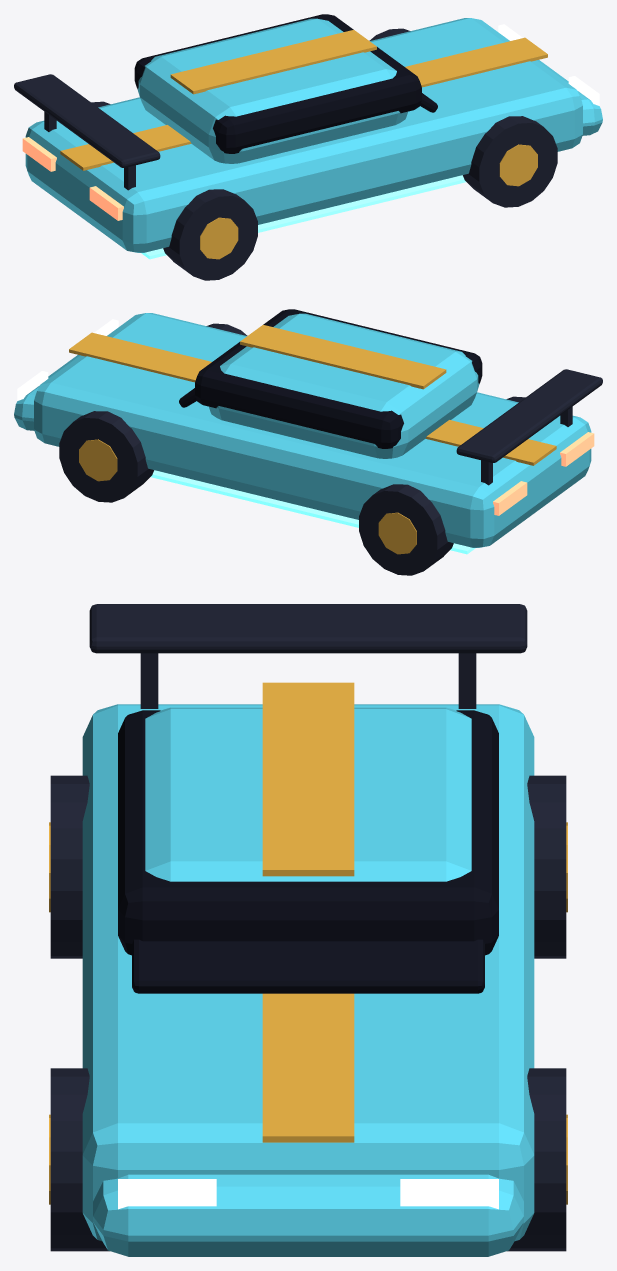
The model's file is cyan_coupe.glb.
3 views of the same model, one above another, from view 1: azimuth 30°, elevation 25°; view 2: azimuth 150°, elevation 25°; view 3: azimuth 270°, elevation 25° (orthographic). The views are drawn at different scales.
Parts seen in each view (by area): view 1: lower, cabin, glass, wheel-11, wheel-1-1, spoiler, stripe, stripeRoof, underglow, rim-11, rim-1-1, nose (+3 smaller); view 2: lower, cabin, glass, wheel11, wheel1-1, spoiler, stripe, stripeRoof, underglow, rim11, rim1-1, nose (+3 smaller); view 3: lower, cabin, glass, nose, spoiler, windshield, stripeRoof, stripe, wheel-11, wheel11, wheel-1-1, wheel1-1 (+4 smaller).
Part boxes in pixels (box(x1,y1,x2,y2)): lower: box(25, 18, 582, 252); cabin: box(137, 18, 407, 163); glass: box(134, 14, 421, 153); wheel-11: box(463, 116, 557, 207); wheel-1-1: box(163, 189, 257, 280); spoiler: box(14, 74, 160, 167); stripe: box(60, 37, 547, 170); stripeRoof: box(170, 30, 376, 94); underglow: box(141, 175, 465, 259); rim-11: box(499, 144, 537, 186); rim-1-1: box(200, 217, 238, 259); nose: box(537, 60, 602, 135); lower: box(34, 313, 591, 547); cabin: box(209, 313, 479, 458); glass: box(195, 309, 482, 448); wheel11: box(59, 411, 153, 502); wheel1-1: box(359, 484, 453, 575); spoiler: box(456, 369, 602, 462); stripe: box(69, 332, 556, 465); stripeRoof: box(240, 325, 446, 389); underglow: box(151, 470, 475, 554); rim11: box(79, 439, 117, 481); rim1-1: box(378, 512, 416, 554); nose: box(14, 355, 79, 430); lower: box(82, 704, 534, 1240); cabin: box(145, 707, 471, 881); glass: box(118, 710, 498, 955); nose: box(93, 1174, 523, 1256); spoiler: box(89, 604, 527, 653); windshield: box(132, 939, 484, 993); stripeRoof: box(262, 691, 354, 876); stripe: box(262, 682, 354, 1142); wheel-11: box(50, 1068, 109, 1251); wheel11: box(507, 1068, 566, 1251); wheel-1-1: box(50, 775, 89, 958); wheel1-1: box(527, 775, 566, 958).
Size of the model in its own units: 3.2 by 0.895 by 1.47.
